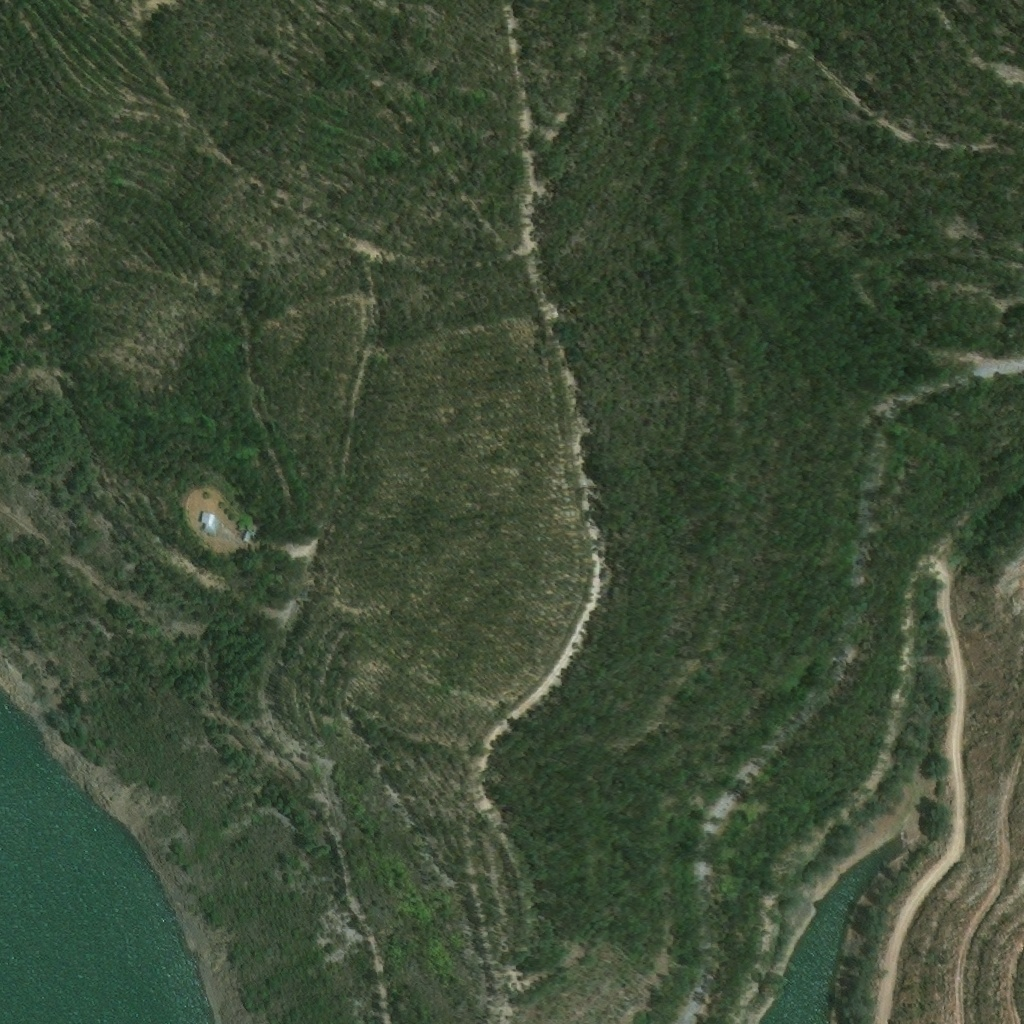0 no-damage: (201, 509, 220, 532), (244, 531, 253, 541)
